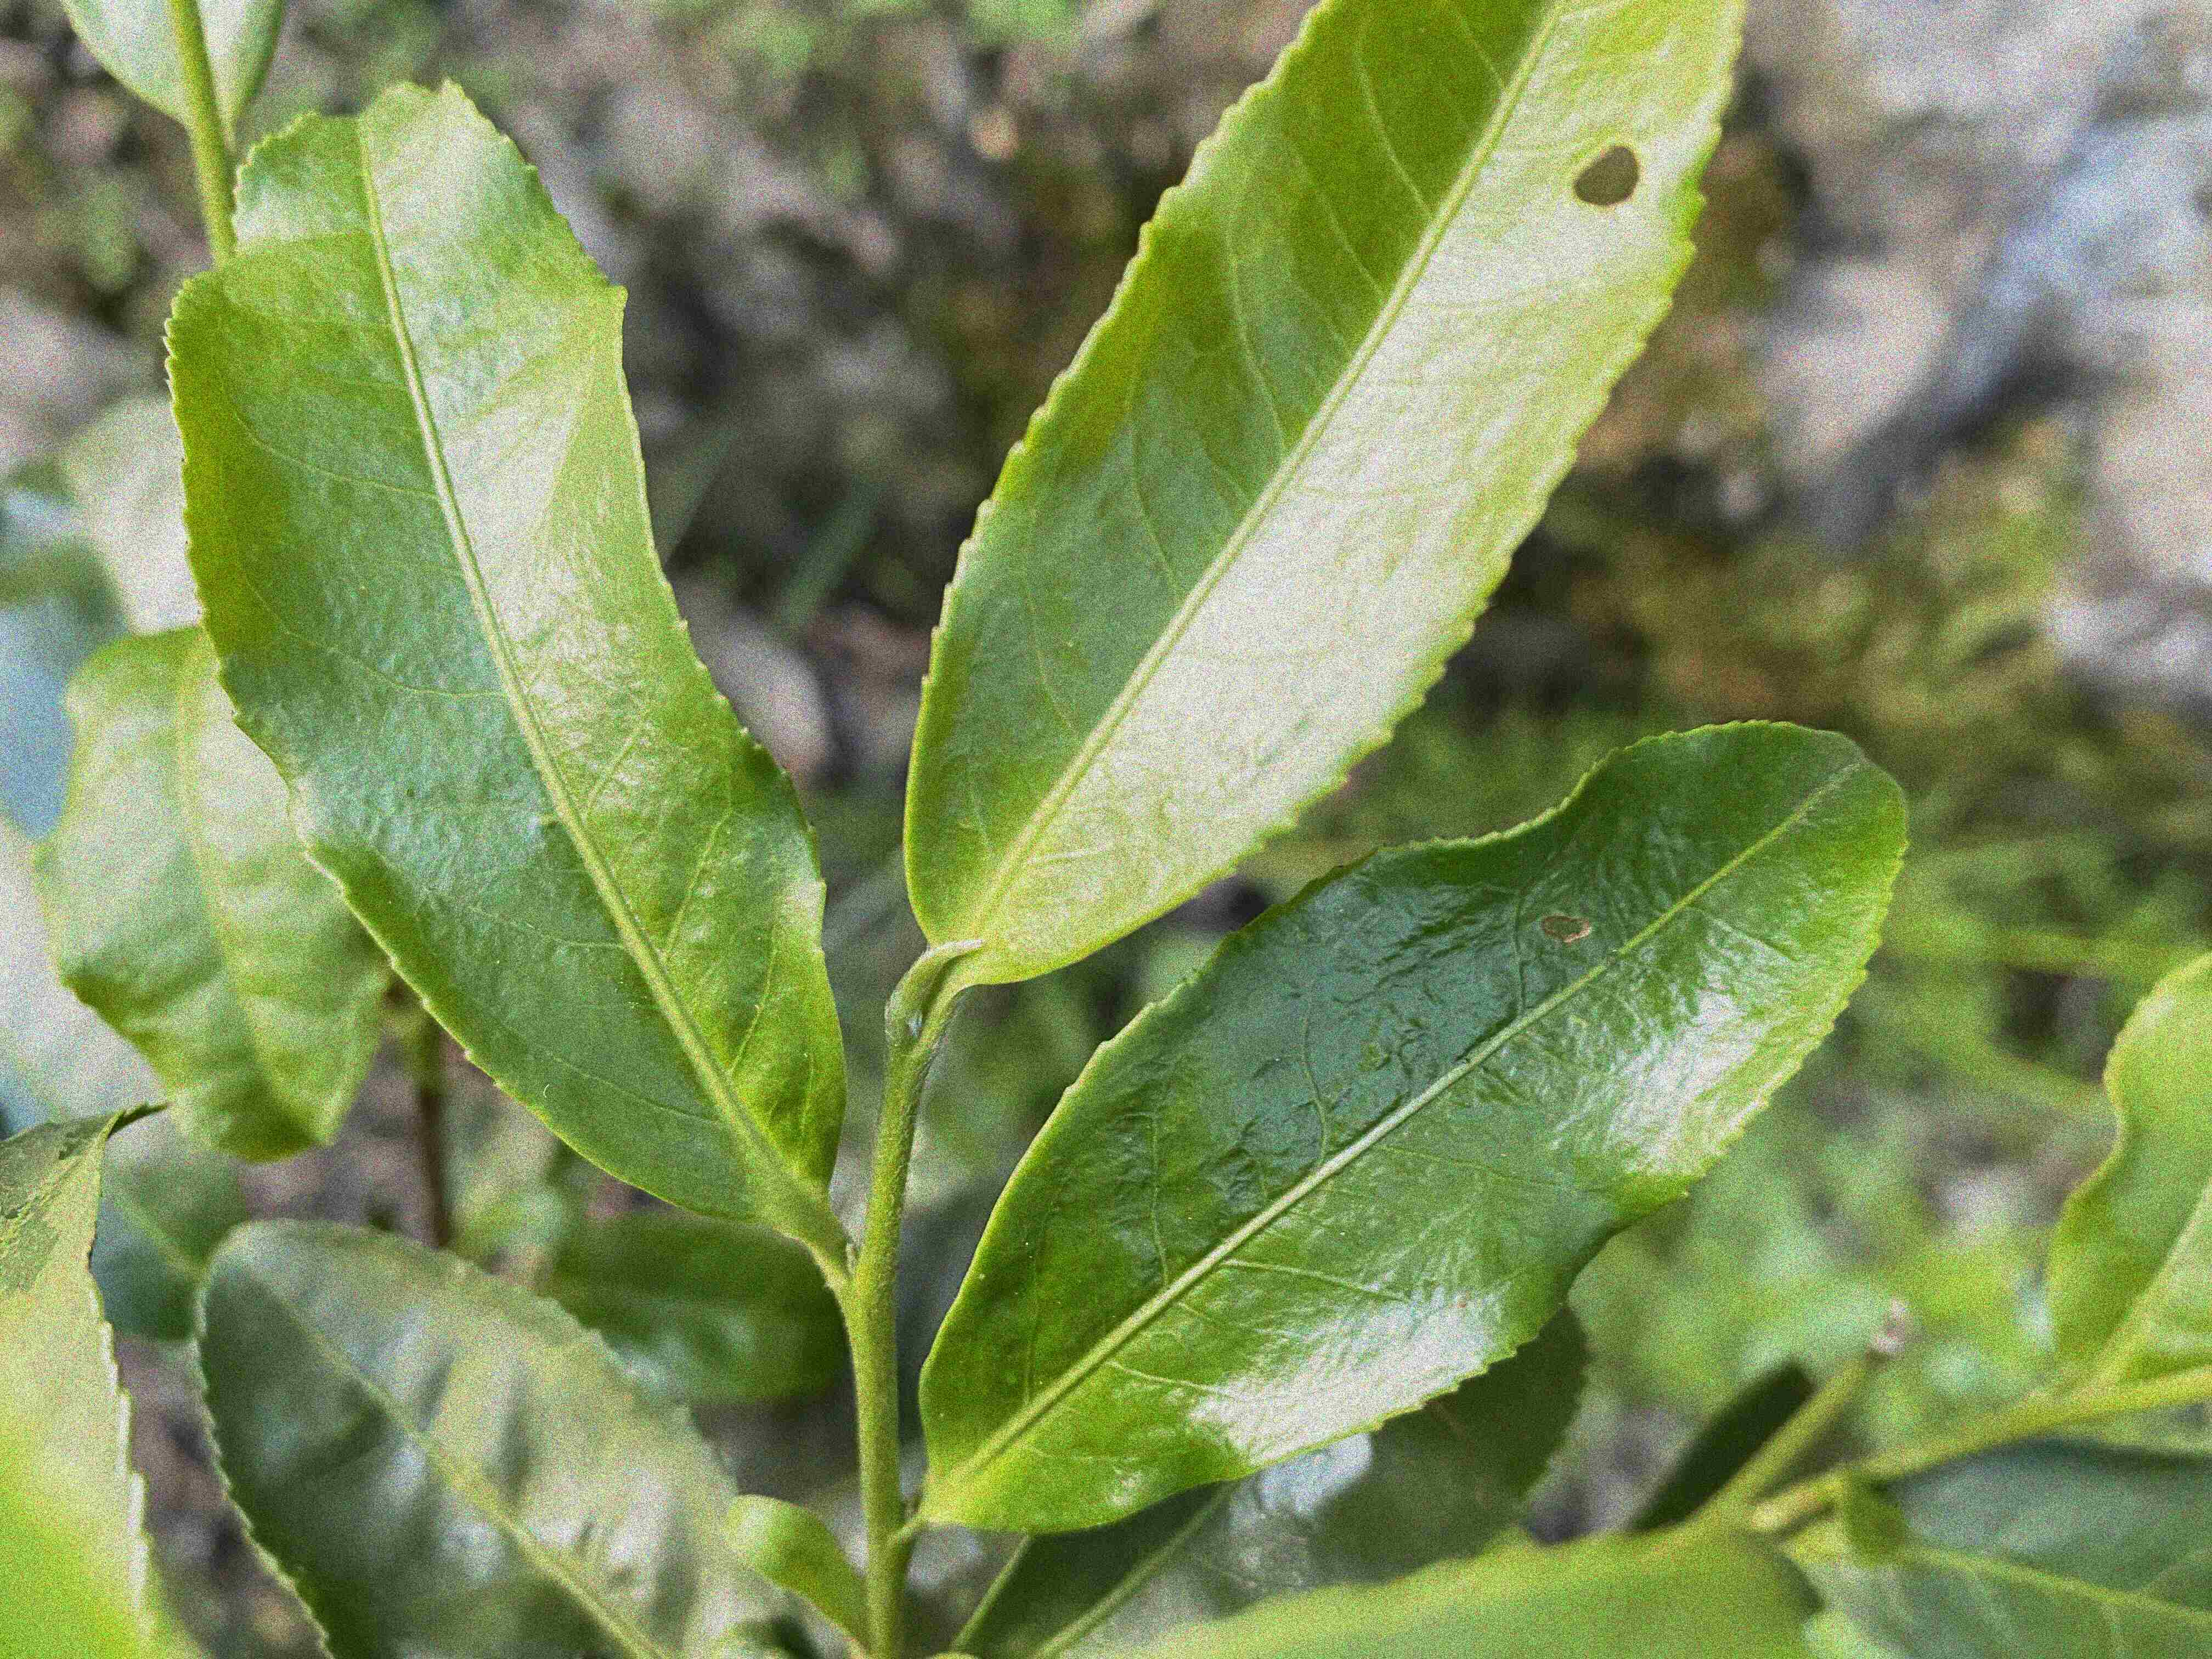chihuo_low: (902, 3, 1750, 993), (914, 720, 1916, 1535)
healthy: (160, 73, 852, 1229)
